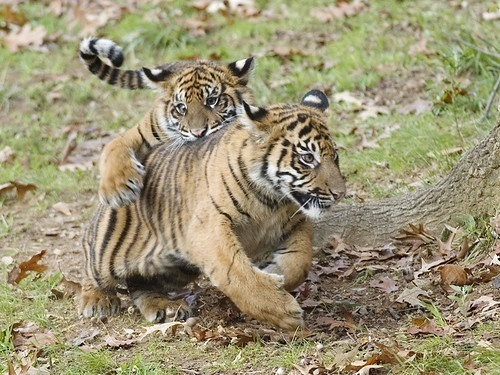tigre: (78, 87, 347, 333), (83, 34, 256, 208)
